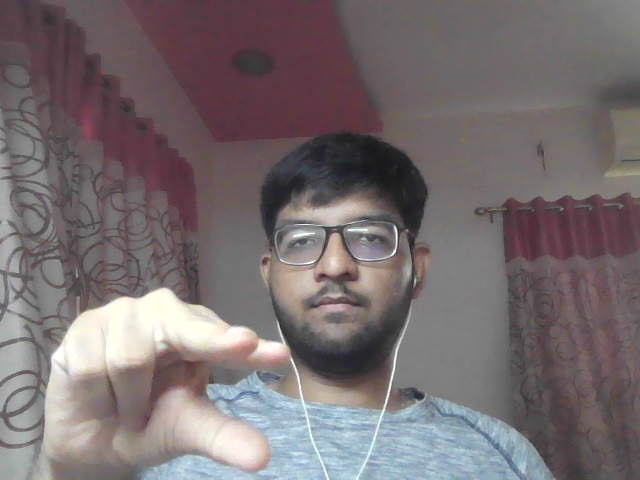ના: (23, 279, 299, 474)
